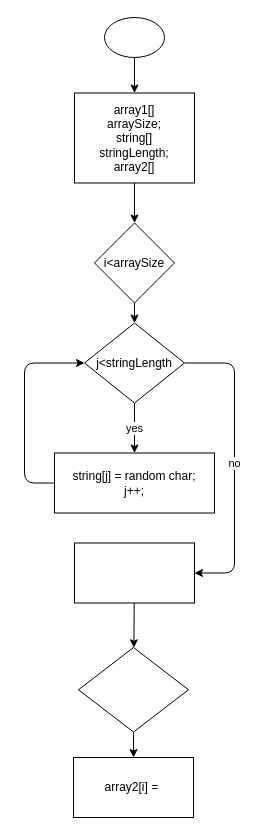
The diagram is 260 pixels wide and 835 high, and some of its shapes have lost their labels. The centre of each missing label's shape, as x and y in pixels:
array1[i]=string[]; i++: point (134, 572)
start: point (134, 37)
stringLength<=3: point (133, 689)
